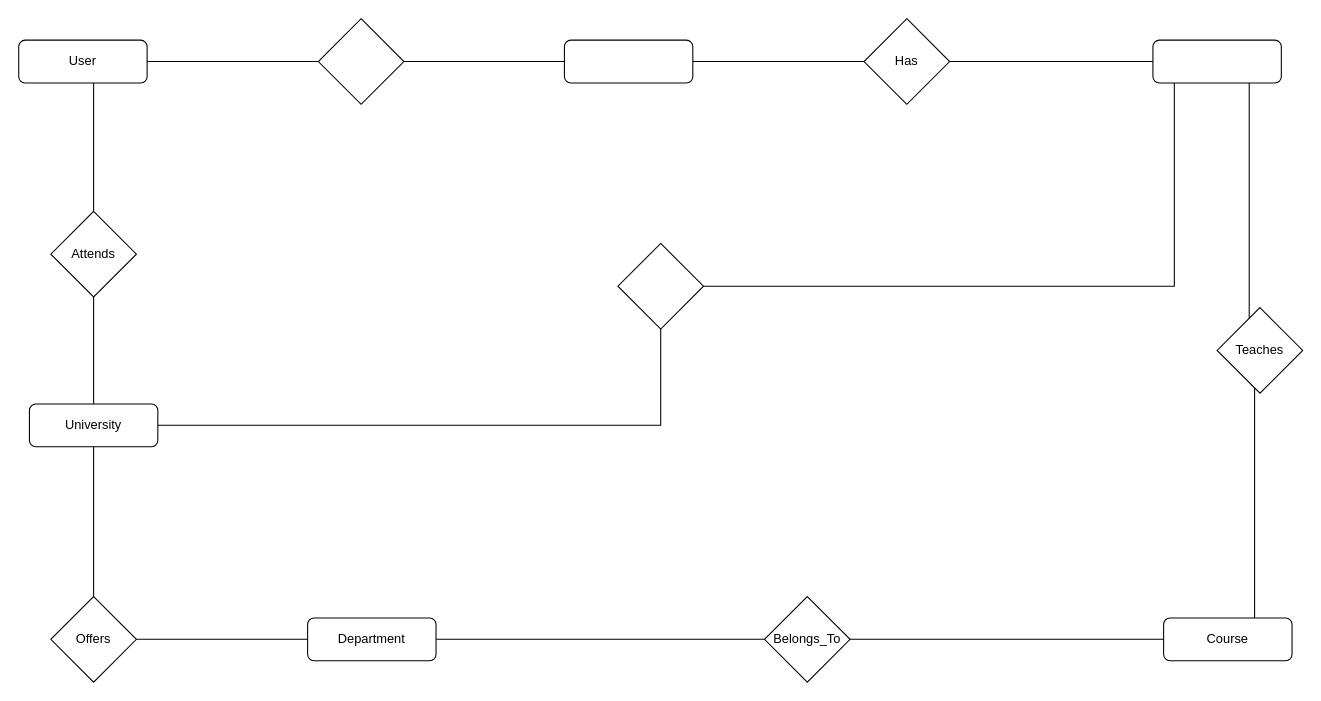
This 1321x701 diagram has some shape labels left out. The shapes that lost their labels are listed below. From the top down, each one's centre as x and y in pixels, then its label:
pixel 360 61: Writes
pixel 628 61: Review
pixel 1216 61: Professor
pixel 660 285: works_at
